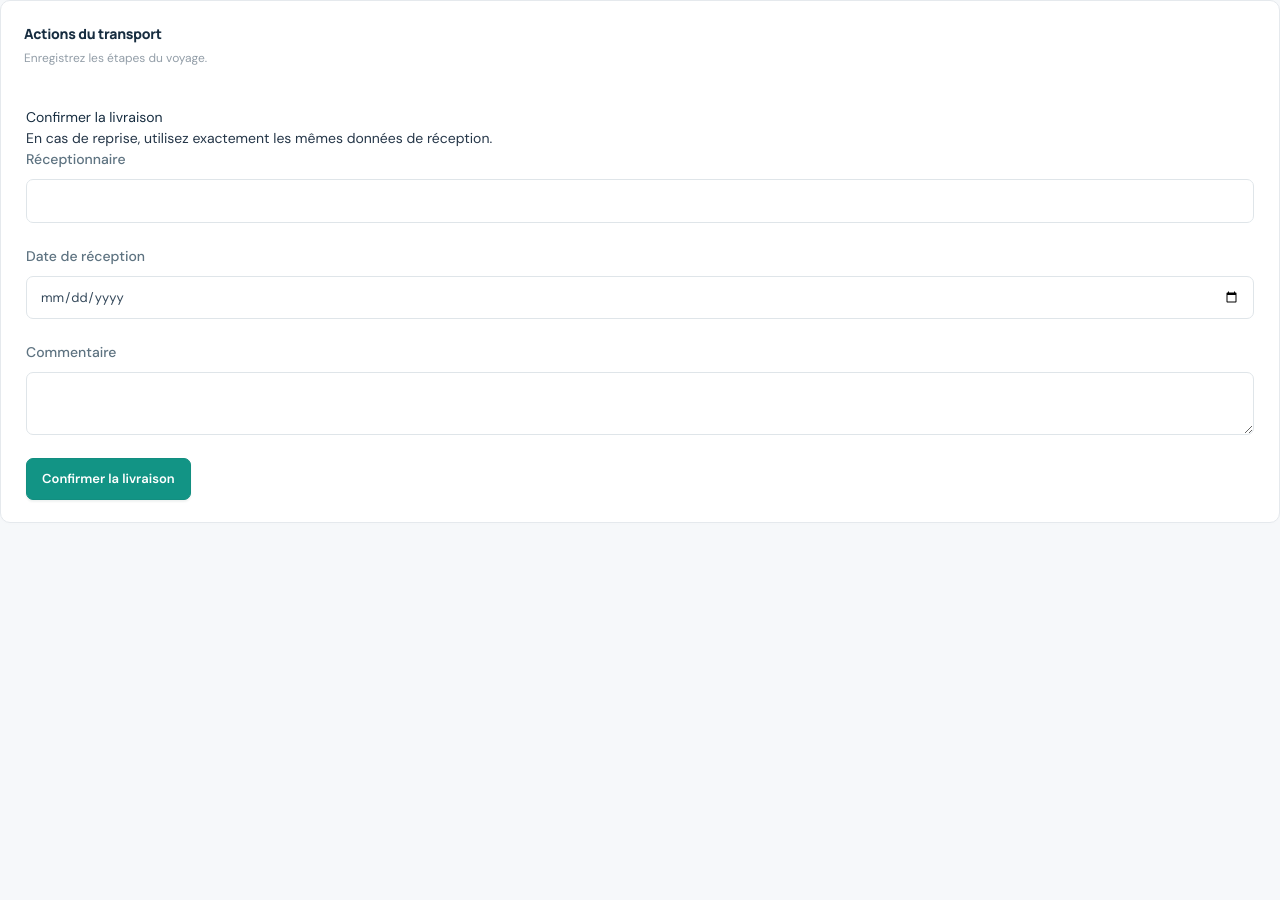
Test: conserve la même preuve après coupure et après remontage de l’écran
This screenshot has width=1280, height=900.
Later steps or results of the test are not shown.
Type "Client Test" into the field labelled "Réceptionnaire" at {"x": 640, "y": 201}, box [26,179,1254,222]
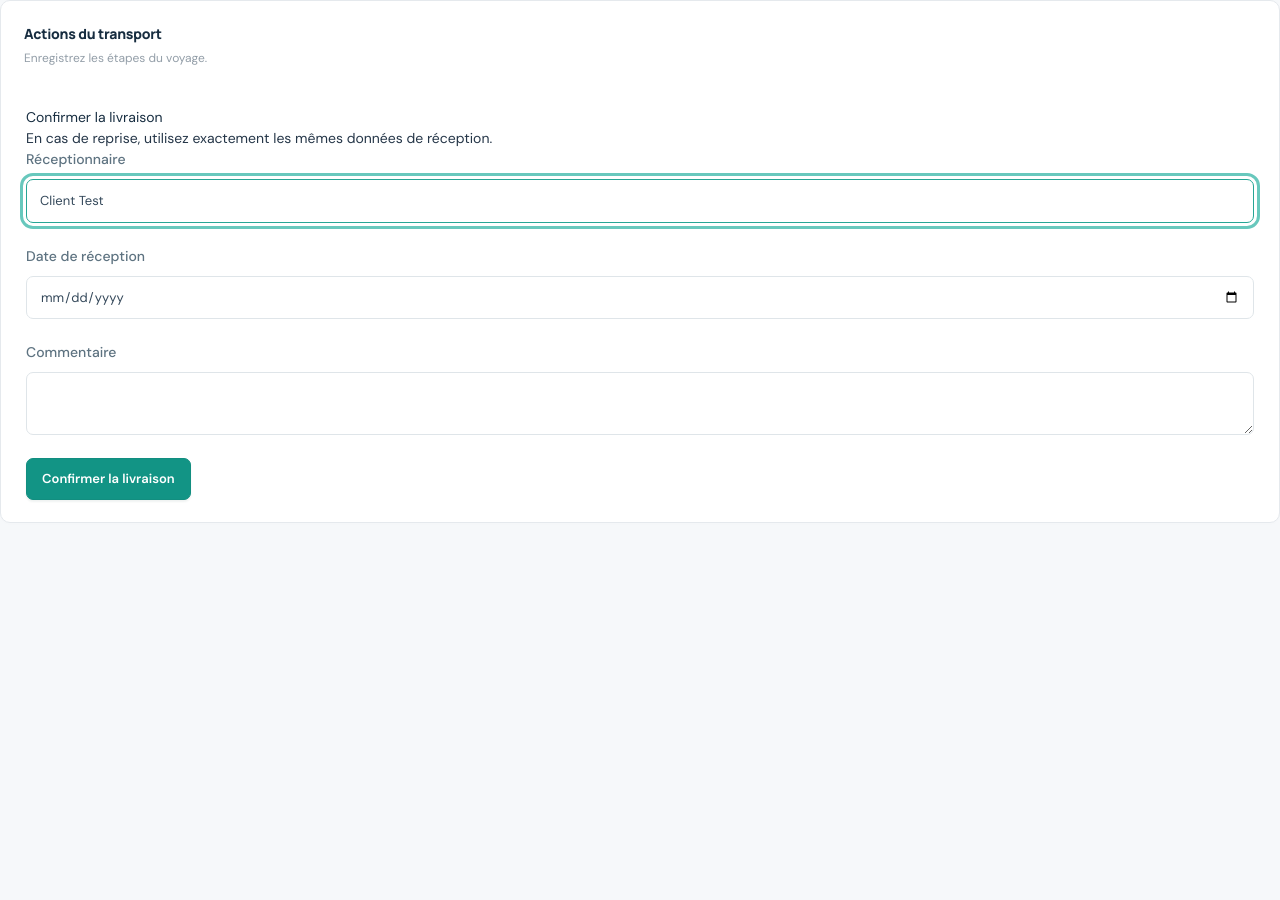
Type "2026-11-23" into the date field labelled "Date de réception" at {"x": 640, "y": 297}, box [26,276,1254,319]
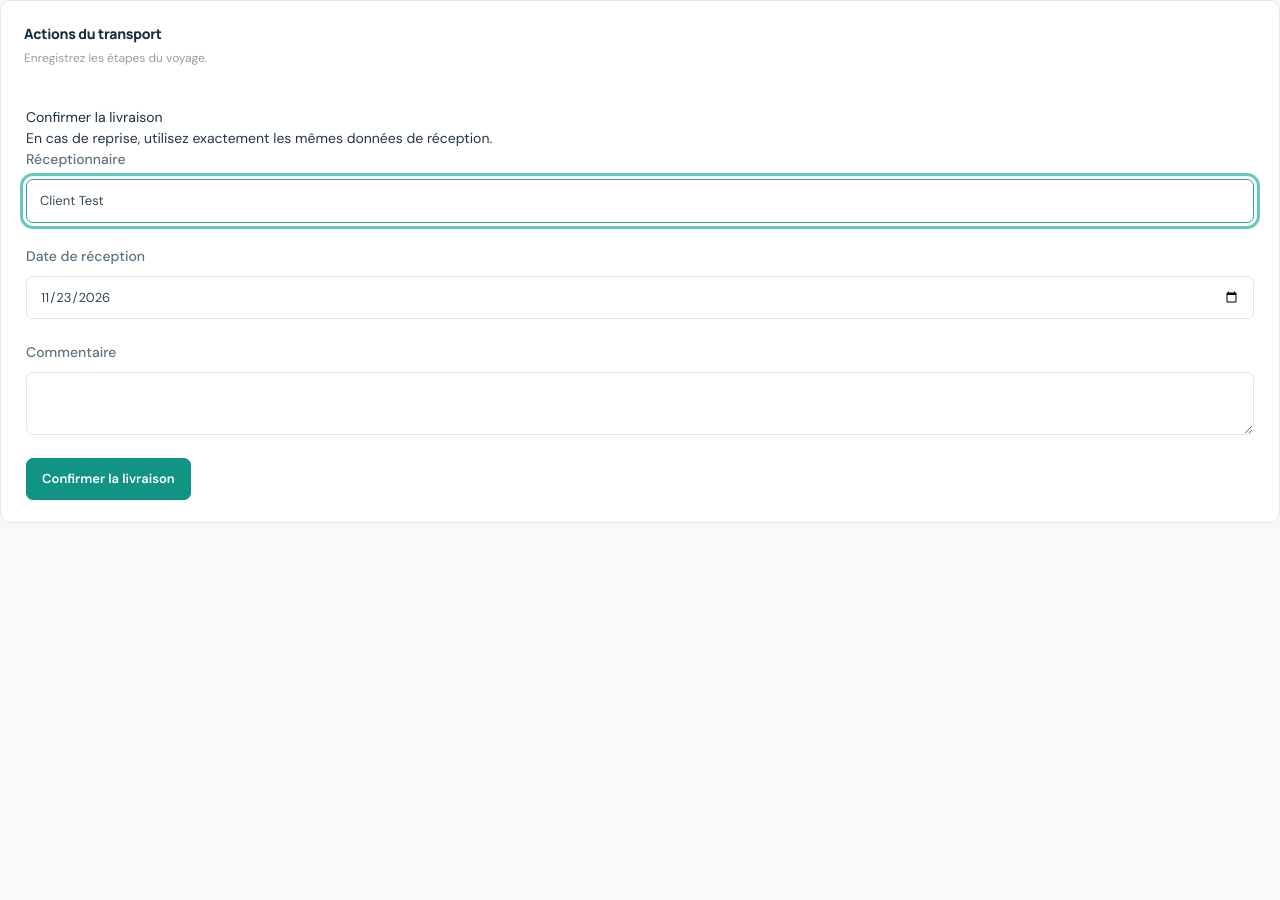
Click the button "Confirmer la livraison" at {"x": 108, "y": 479}, box [26,458,191,500]
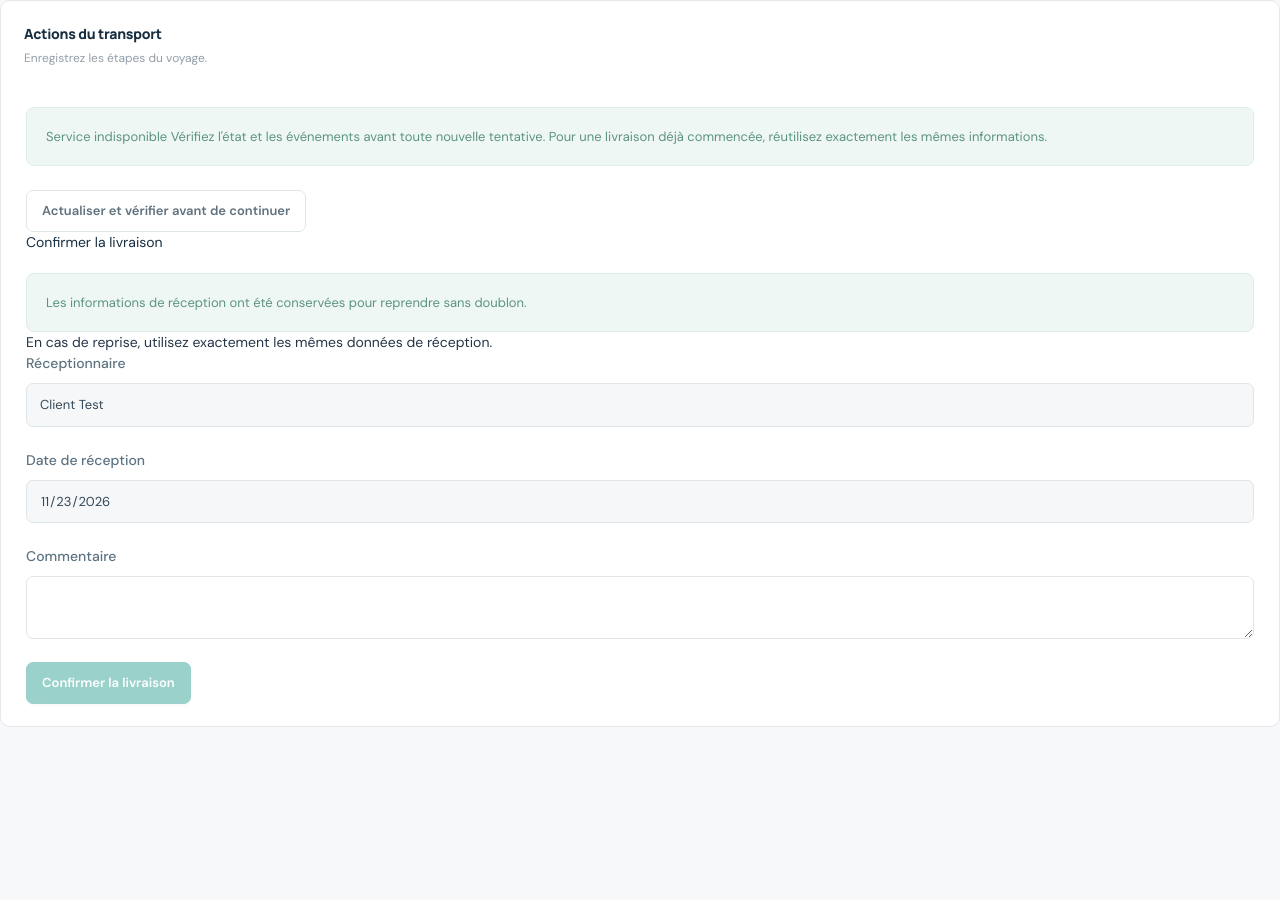
expect the text "Vérifiez l'état et les événements" is shown: met, box [46,128,1047,145]
expect the button "Confirmer la livraison" is disabled: met, box [26,662,191,704]
